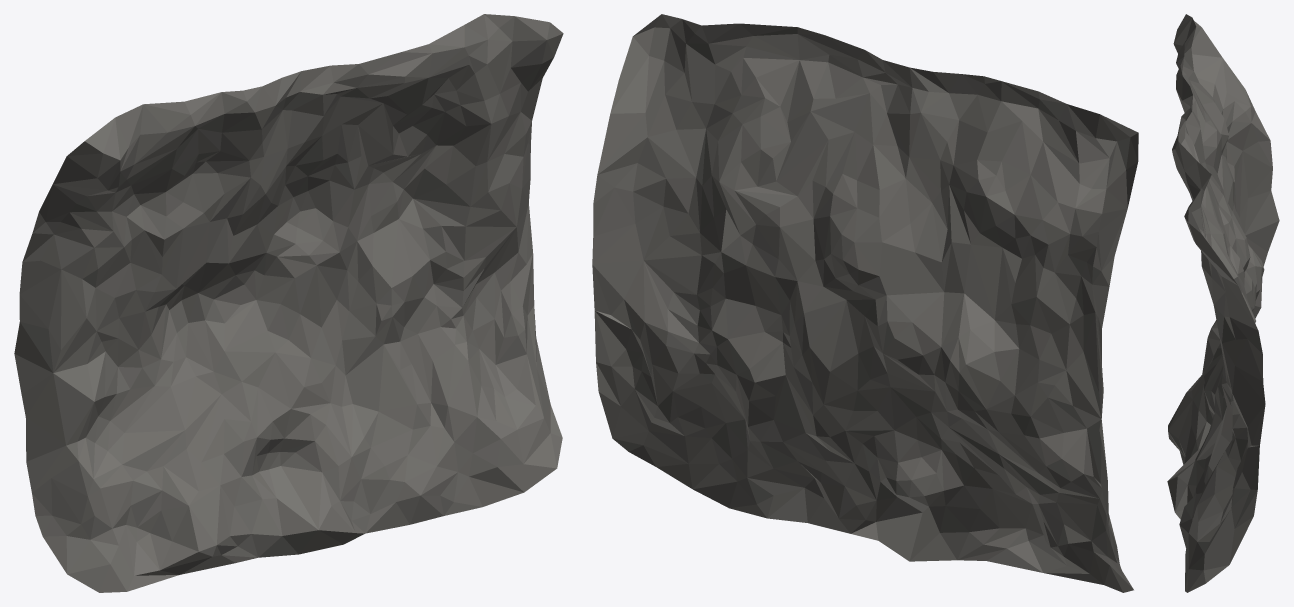
File: SM_Env_Cave_Wall_Large_01.fbx
The picture shows the model from 3 angles, left to right: view 1: azimuth 30°, elevation 25°; view 2: azimuth 150°, elevation 25°; view 3: azimuth 270°, elevation 25°; orthographic projection. The views are drawn at different scales.
Parts seen in each view (by area): view 1: SM_Env_Cave_Wall_Large_01; view 2: SM_Env_Cave_Wall_Large_01; view 3: SM_Env_Cave_Wall_Large_01.
Boxes of the visible parts, left/top/right/bottom form: SM_Env_Cave_Wall_Large_01: left=14, top=14, right=563, bottom=592; SM_Env_Cave_Wall_Large_01: left=592, top=14, right=1138, bottom=592; SM_Env_Cave_Wall_Large_01: left=1167, top=14, right=1279, bottom=592.
Size of the model in its own units: 1870 by 1721 by 417.
